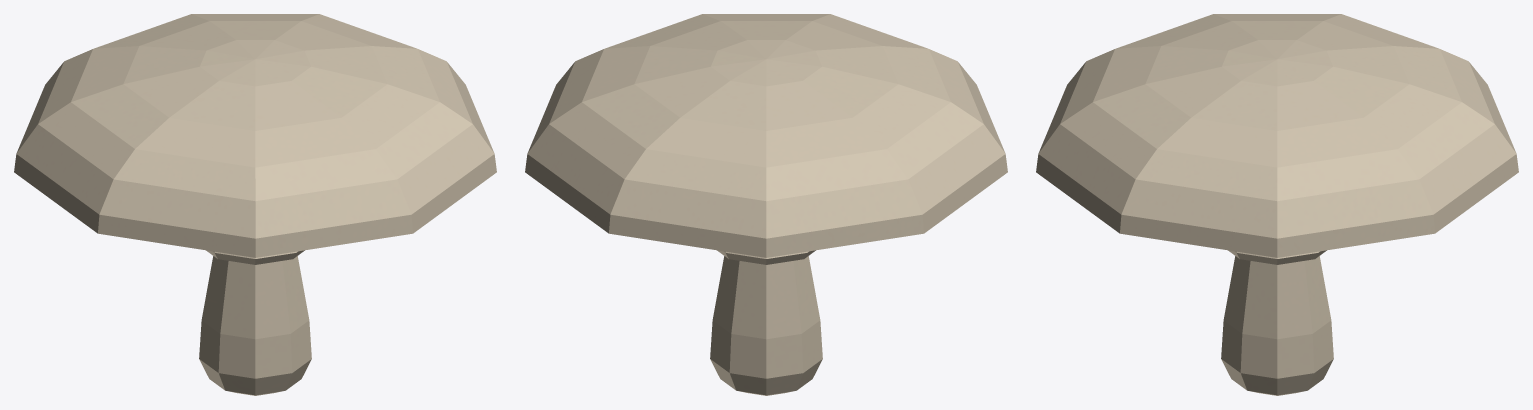
File: Mushroom_03.fbx
The picture shows the model from 3 angles, left to right: view 1: azimuth 30°, elevation 25°; view 2: azimuth 150°, elevation 25°; view 3: azimuth 270°, elevation 25°; orthographic projection.
Parts seen in each view (by area): view 1: Mushroom_03; view 2: Mushroom_03; view 3: Mushroom_03.
Part boxes in pixels (<box>): Mushroom_03: <box>14,14,496,395</box>; Mushroom_03: <box>525,14,1007,395</box>; Mushroom_03: <box>1036,14,1518,395</box>.
Size of the model in its own units: 47.1 by 35.84 by 47.82.
Materials: 1 (1 with a texture image).
